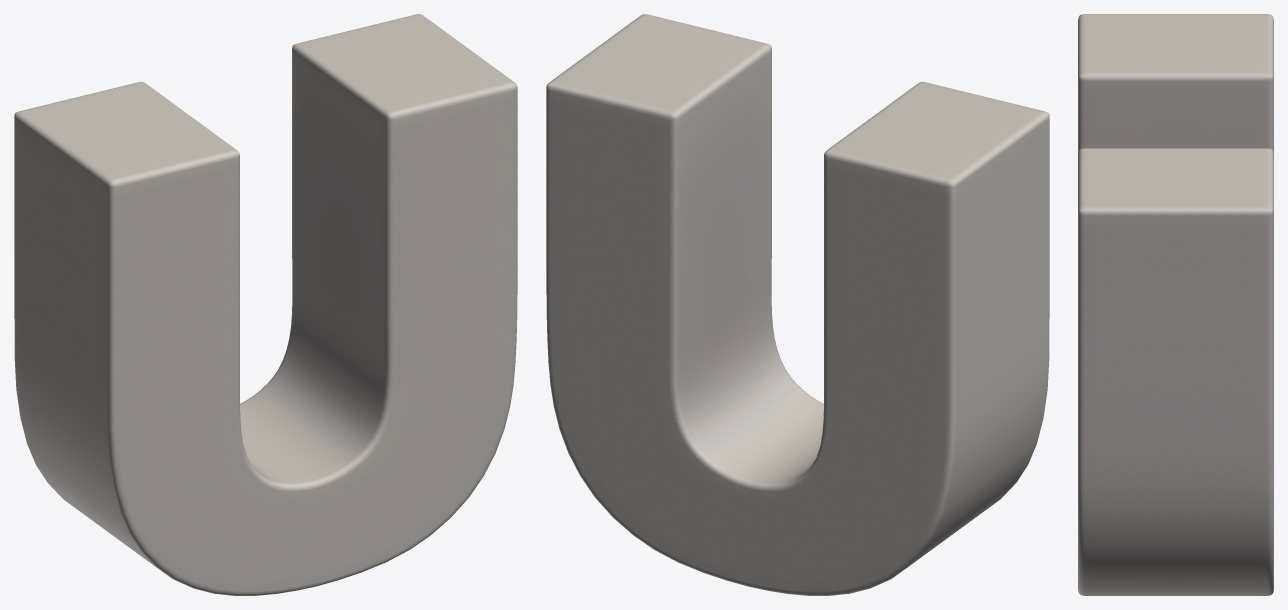
3 views of the same model, side by side, from view 1: azimuth 30°, elevation 25°; view 2: azimuth 150°, elevation 25°; view 3: azimuth 270°, elevation 25° (orthographic).
Parts seen in each view (by area): view 1: node_id30; view 2: node_id30; view 3: node_id30.
Part boxes in pixels (left/top/right/bottom): node_id30: left=14, top=14, right=517, bottom=595; node_id30: left=546, top=14, right=1049, bottom=595; node_id30: left=1078, top=14, right=1273, bottom=595.
Size of the model in its own units: 0.4607 by 0.4905 by 0.1929.
1 material, 1 textured.
